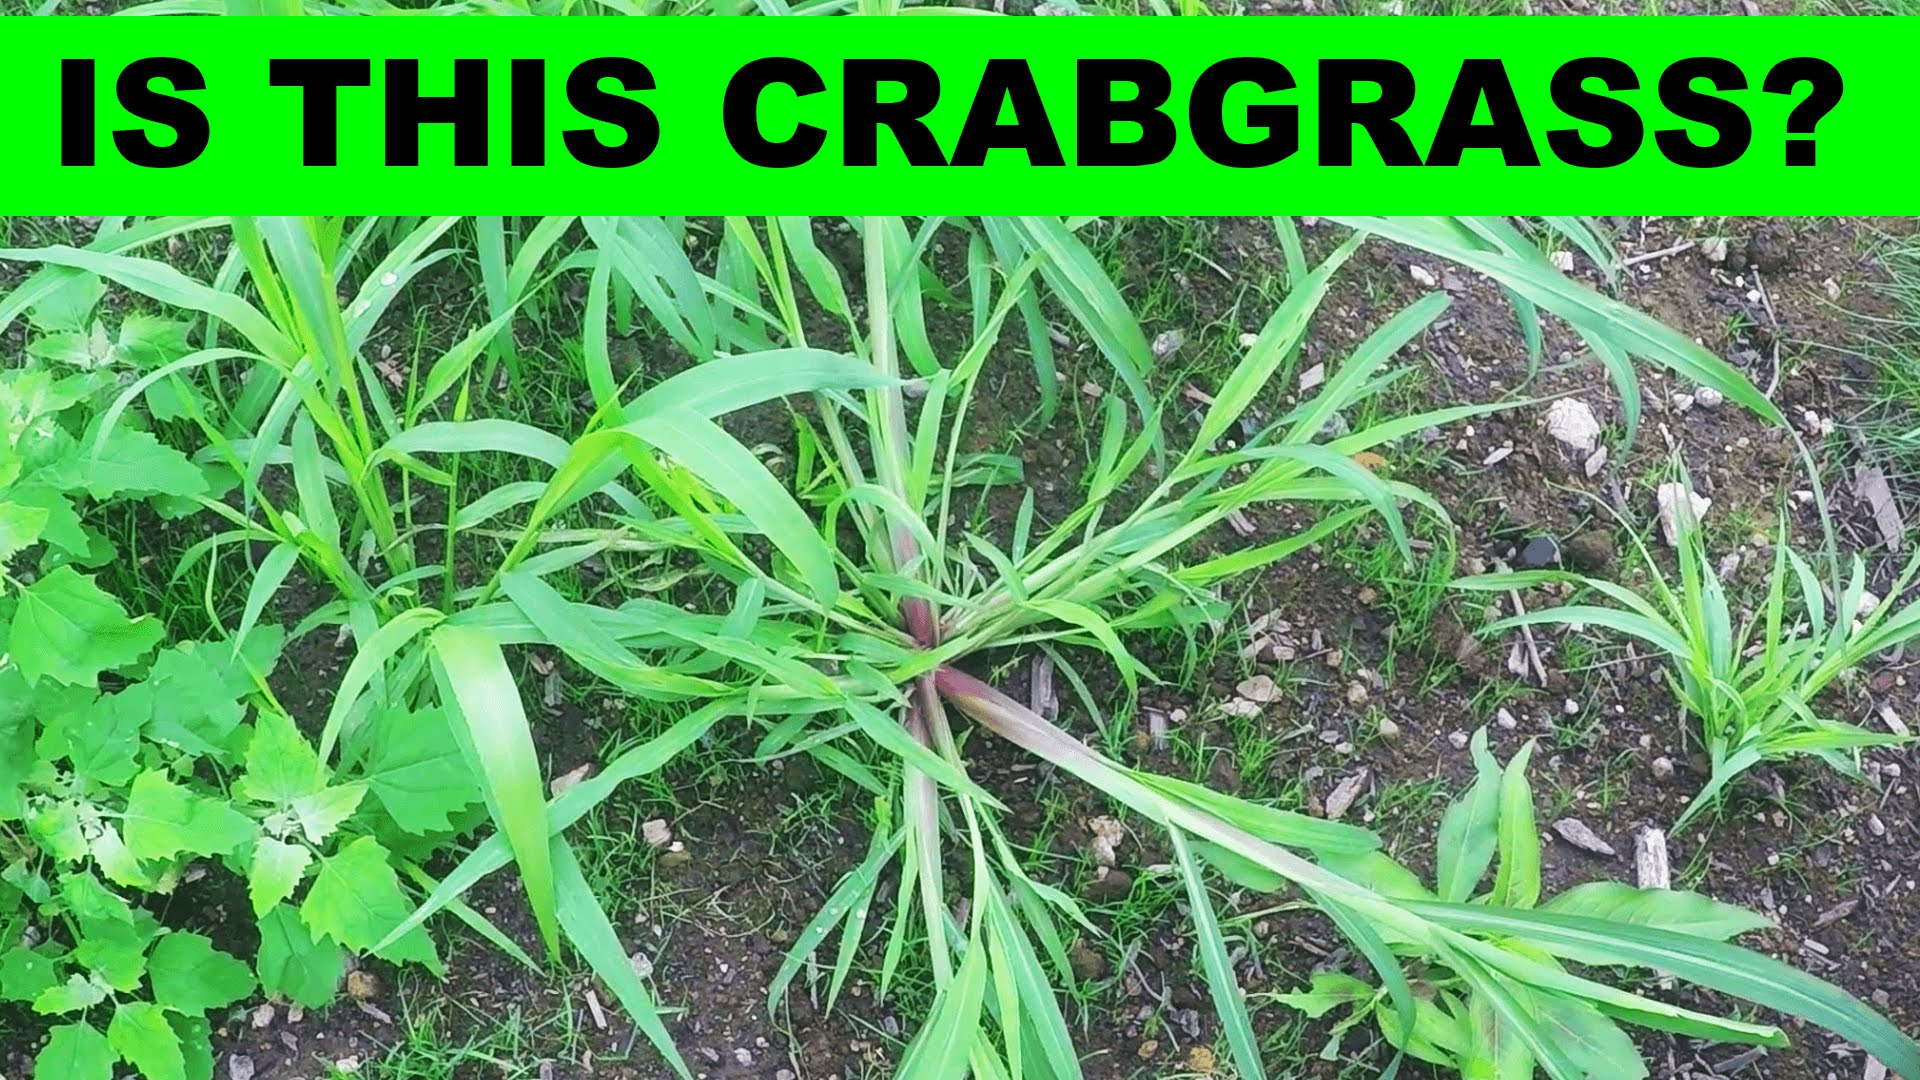crabgrass: (563, 330, 1294, 847), (1621, 516, 1882, 800)
